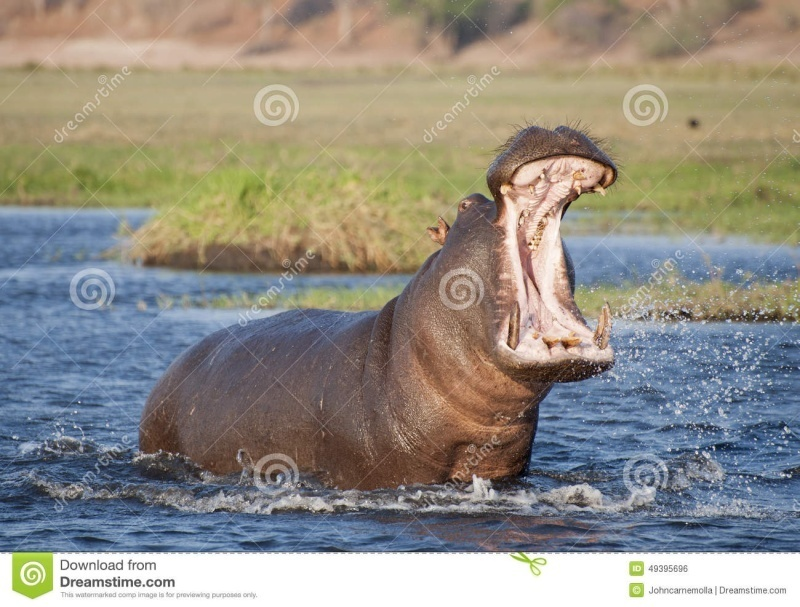hipopotamo: (139, 115, 619, 492)
